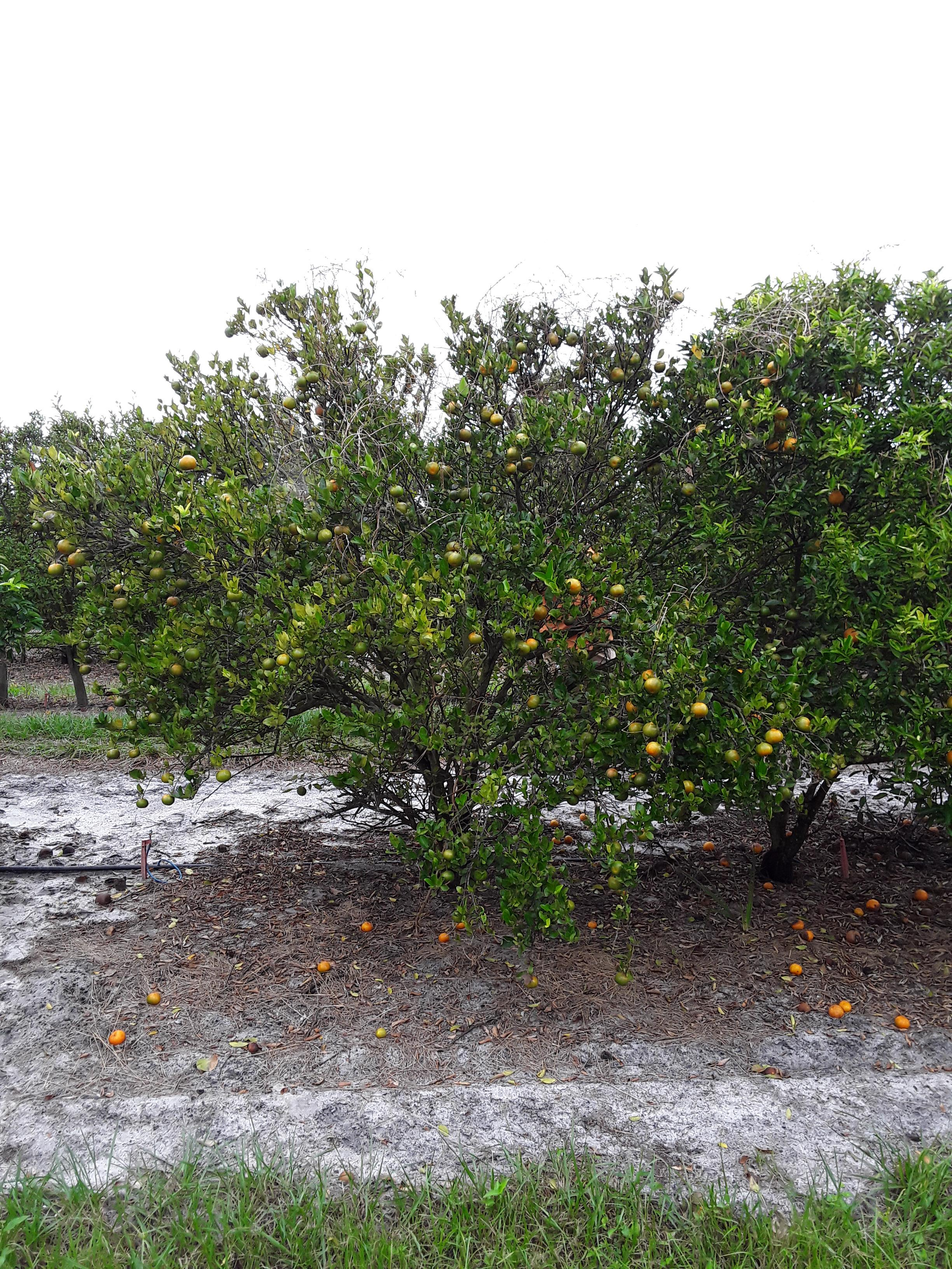fruit_on_ground: (841, 624, 862, 646), (562, 576, 585, 595), (524, 604, 548, 622), (56, 538, 79, 556), (760, 436, 782, 454), (826, 489, 848, 506), (765, 727, 785, 745), (611, 968, 631, 986), (68, 550, 86, 570), (47, 560, 65, 579), (323, 475, 342, 493), (568, 776, 584, 797), (468, 552, 486, 570), (439, 867, 458, 884), (564, 329, 581, 348), (691, 700, 707, 720), (569, 441, 589, 457), (753, 741, 773, 757), (646, 679, 663, 697), (627, 720, 645, 737), (624, 350, 643, 366), (779, 440, 796, 457), (634, 771, 651, 788), (184, 645, 201, 662), (680, 481, 697, 498), (287, 521, 305, 537), (148, 566, 166, 582), (725, 747, 740, 766), (607, 875, 624, 891), (604, 714, 620, 731), (388, 482, 404, 499), (457, 485, 473, 502), (180, 452, 195, 470), (639, 667, 657, 682), (505, 446, 523, 461), (765, 359, 783, 374), (641, 720, 657, 736), (773, 698, 789, 714), (609, 858, 624, 875), (480, 406, 497, 421), (259, 656, 276, 671), (626, 698, 640, 716), (444, 540, 462, 554), (648, 743, 661, 762), (102, 747, 121, 760), (795, 716, 810, 732), (353, 641, 369, 656), (353, 320, 369, 335), (783, 607, 799, 622), (501, 457, 515, 474), (525, 695, 539, 712), (481, 359, 495, 376), (609, 582, 626, 596), (561, 613, 578, 627), (610, 368, 623, 386), (524, 636, 539, 651), (337, 571, 352, 586), (515, 339, 530, 354), (450, 552, 464, 568), (457, 427, 473, 441), (636, 385, 652, 399), (774, 406, 790, 420), (159, 770, 175, 784), (145, 710, 161, 724), (113, 596, 129, 610), (112, 696, 129, 709), (281, 396, 296, 410), (318, 528, 333, 542), (606, 507, 621, 521), (607, 453, 620, 469), (426, 461, 439, 477), (529, 697, 542, 713), (682, 778, 695, 794), (608, 365, 621, 381), (333, 524, 349, 537), (447, 397, 459, 414), (471, 633, 483, 650), (443, 848, 457, 862), (275, 652, 289, 666), (670, 289, 685, 302), (291, 645, 304, 660), (704, 399, 719, 412), (719, 381, 734, 394), (481, 490, 494, 505), (135, 796, 150, 809), (170, 659, 182, 675), (564, 795, 580, 807), (222, 327, 238, 339), (941, 749, 952, 766), (490, 413, 504, 426), (758, 604, 772, 617), (165, 595, 179, 608), (466, 629, 478, 644), (217, 771, 229, 786), (295, 375, 310, 387), (758, 376, 773, 388), (160, 794, 175, 806), (83, 628, 98, 640), (112, 581, 127, 593), (28, 520, 43, 532), (431, 463, 444, 476), (255, 344, 268, 357), (295, 784, 309, 796), (315, 404, 327, 418), (550, 334, 561, 349), (440, 551, 455, 562), (306, 371, 319, 383), (653, 361, 666, 373), (128, 748, 141, 760), (509, 357, 520, 371), (127, 717, 139, 729), (79, 664, 92, 675), (116, 661, 129, 672), (606, 767, 616, 780), (76, 580, 87, 591), (79, 640, 91, 650), (250, 371, 260, 382)
fruit_on_tree: (108, 1028, 125, 1048), (147, 989, 162, 1007), (375, 1023, 390, 1041), (768, 1068, 784, 1084), (830, 1002, 845, 1018), (895, 1016, 910, 1032), (526, 970, 539, 988), (245, 1039, 259, 1055), (846, 928, 860, 944), (362, 918, 375, 935), (917, 886, 931, 901), (796, 1000, 810, 1015), (865, 896, 879, 911), (586, 916, 599, 931), (750, 841, 765, 854), (436, 933, 448, 949), (790, 918, 805, 930), (789, 961, 801, 975), (319, 960, 330, 974), (840, 999, 851, 1013), (762, 881, 773, 893), (578, 812, 590, 823), (706, 839, 716, 852), (801, 929, 814, 939), (562, 833, 574, 843), (548, 818, 559, 827), (855, 907, 865, 916), (551, 836, 562, 844)
